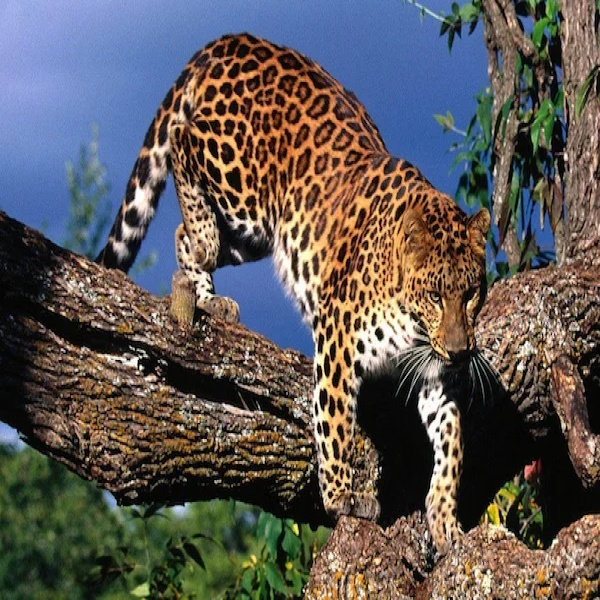Leopard: (92, 30, 495, 558)
